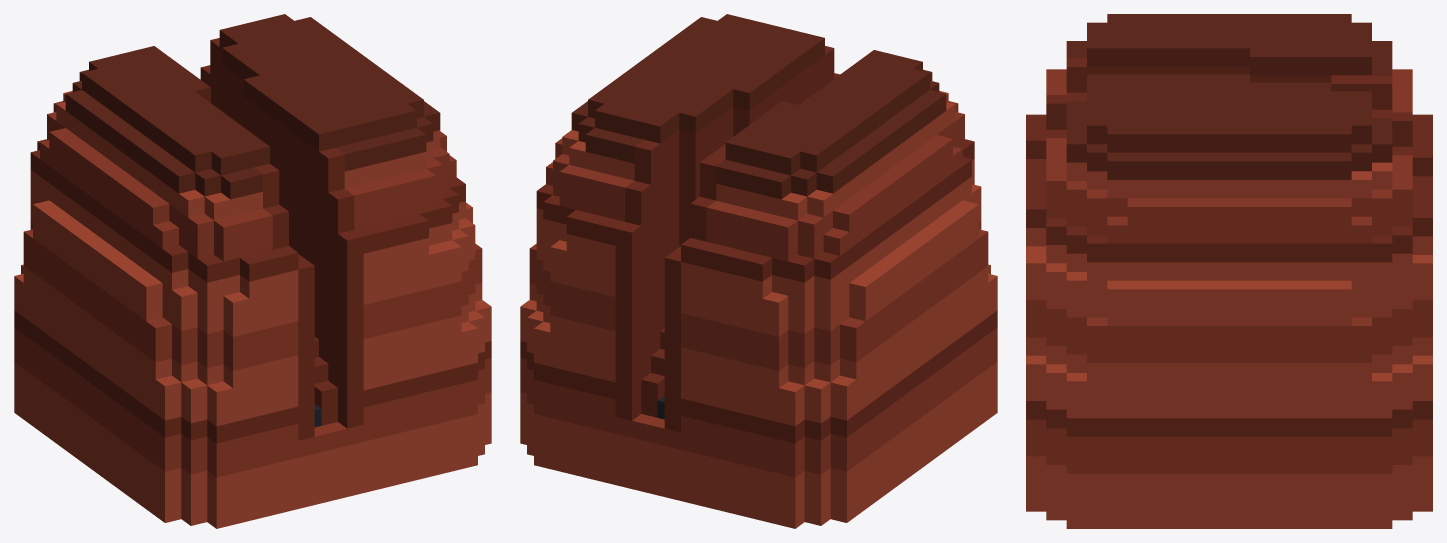
File: boulder_c.glb
3 renders of one model, left to right at view 1: azimuth 30°, elevation 25°; view 2: azimuth 150°, elevation 25°; view 3: azimuth 270°, elevation 25°, orthographic. The views are drawn at different scales.
Parts seen in each view (by area): view 1: rock; view 2: rock; view 3: rock.
Part boxes in pixels (x1,y1,x2,y2): rock: (14, 14, 491, 528); rock: (520, 14, 997, 528); rock: (1026, 14, 1432, 528).
Size of the model in its own units: 20 by 20 by 20.
